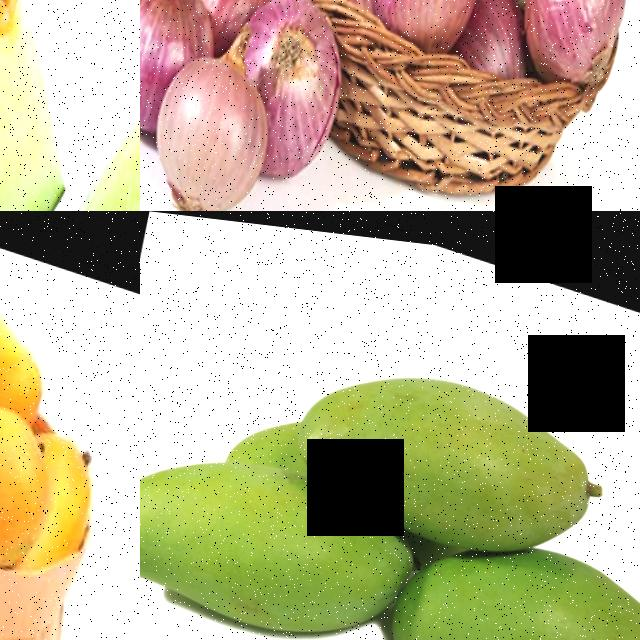mango: (289, 326, 605, 560), (140, 412, 405, 640), (384, 507, 640, 640), (0, 377, 57, 562)
onion: (142, 34, 278, 211), (255, 0, 354, 191), (511, 0, 637, 93), (140, 0, 192, 146), (356, 0, 496, 36)
